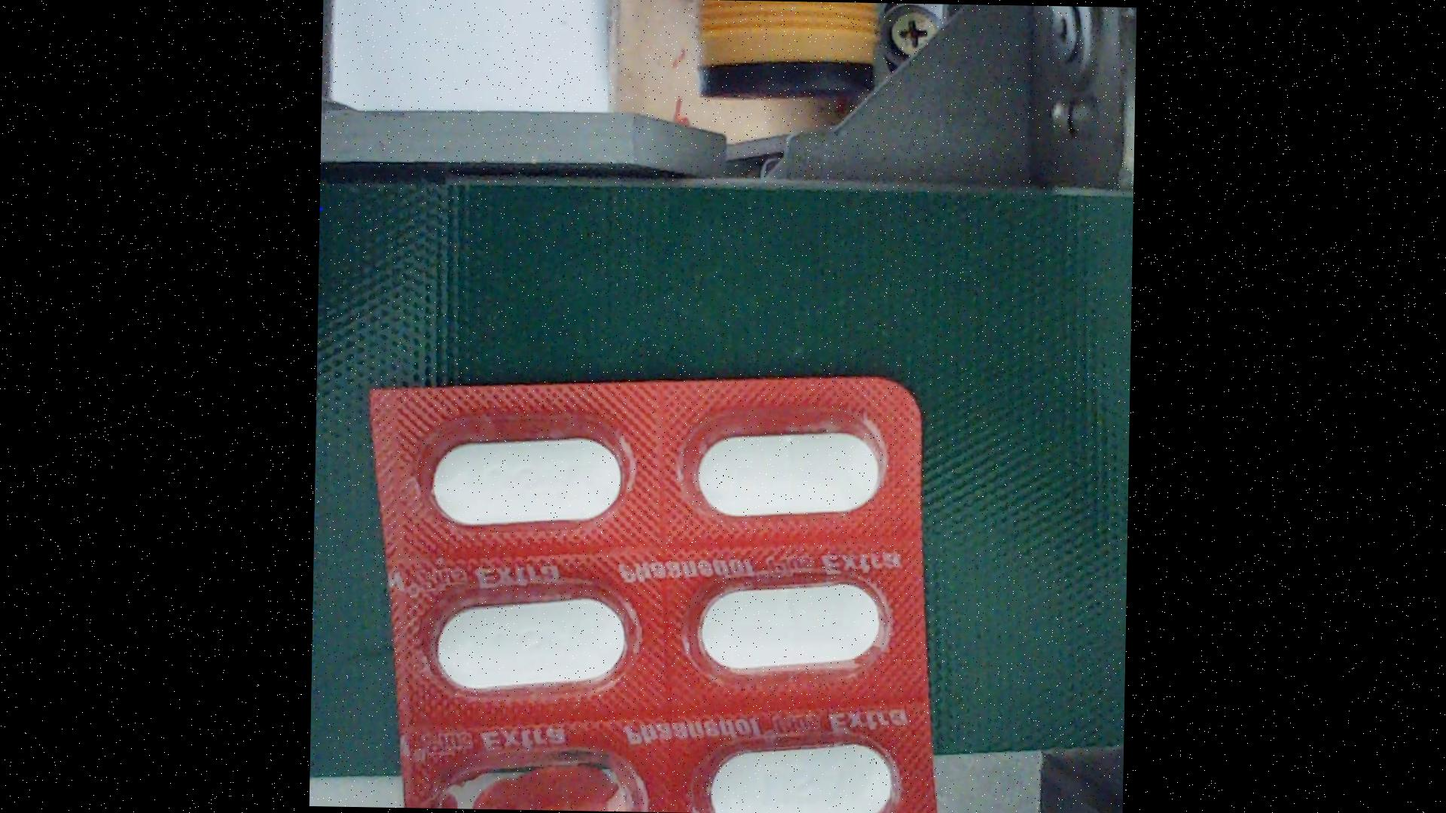Empty: (425, 760, 645, 813)
Full: (677, 575, 898, 692), (423, 588, 644, 705), (679, 419, 899, 535), (423, 430, 644, 545), (687, 736, 907, 813)
